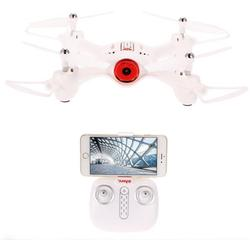drone: (3, 7, 250, 110)
